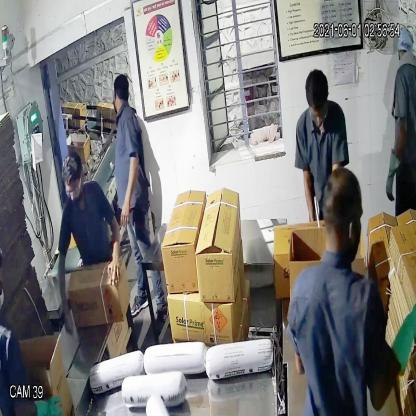goggles: (62, 176, 86, 202)
